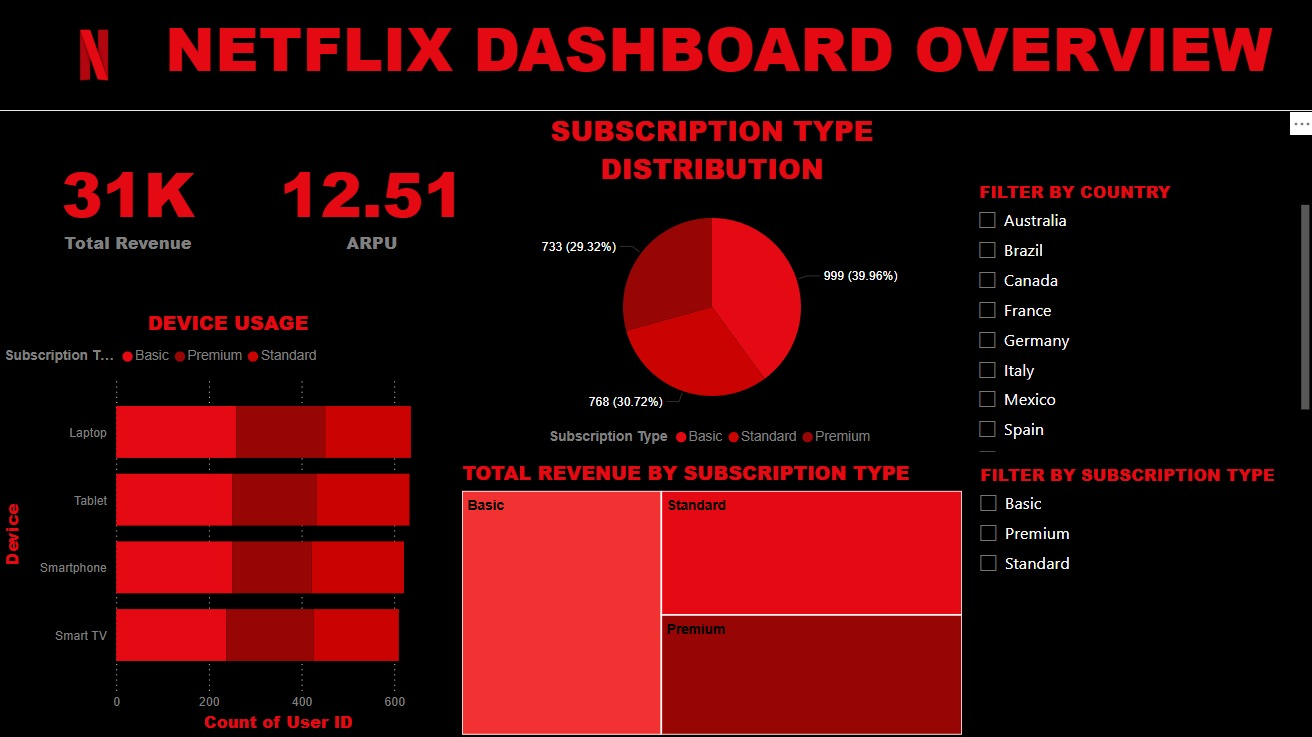

Layout of this report page (visuals, bound fields, positions):
{"tool":"powerbi","page":{"name":"OVERVIEW","canvas":[1280,720],"ordinal":0},"visuals":[{"type":"card","fields":{"Values":["Netflix Userbase.Total Revenue"]},"box":[6.8,108.9,237.3,191.6],"z":0},{"type":"textbox","box":[0,0,1280,108.9],"z":1000},{"type":"card","fields":{"Values":["Netflix Userbase.ARPU"]},"box":[244.1,108.9,237.3,191.6],"z":2000},{"type":"pieChart","title":"SUBSCRIPTION TYPE DISTRIBUTION","fields":{"Category":["Netflix Userbase.Subscription Type"],"Y":["CountNonNull(Netflix Userbase.User ID)"]},"box":[445.5,108.9,496,336.5],"z":3000},{"type":"barChart","title":"DEVICE USAGE","fields":{"Category":["Netflix Userbase.Device"],"Y":["CountNonNull(Netflix Userbase.User ID)"],"Series":["Netflix Userbase.Subscription Type"]},"box":[0,300.5,445.5,419.2],"z":4000},{"type":"slicer","fields":{"Values":["Netflix Userbase.Country"]},"box":[940.5,170.2,339.5,275.3],"z":5000},{"type":"slicer","fields":{"Values":["Netflix Userbase.Subscription Type"]},"box":[941.5,445.5,338.5,274.3],"z":6000},{"type":"image","box":[34,0,117.7,108.9],"z":7000},{"type":"treemap","title":"TOTAL REVENUE BY SUBSCRIPTION TYPE","fields":{"Group":["Netflix Userbase.Subscription Type"],"Values":["Netflix Userbase.Total Revenue"]},"box":[445,446,496,274],"z":7001}]}

Visuals, with their boxes in screenshot pixels (x1, y1, x2, y2), scaled from the page's 1280x720 canvas onto the 1312x737 screenshot:
card - Netflix Userbase.Total Revenue: [left=7, top=111, right=250, bottom=308]
textbox: [left=0, top=0, right=1311, bottom=111]
card - Netflix Userbase.ARPU: [left=250, top=111, right=493, bottom=308]
"SUBSCRIPTION TYPE DISTRIBUTION" pieChart: [left=457, top=111, right=965, bottom=456]
"DEVICE USAGE" barChart: [left=0, top=308, right=457, bottom=736]
slicer - Netflix Userbase.Country: [left=964, top=174, right=1311, bottom=456]
slicer - Netflix Userbase.Subscription Type: [left=965, top=456, right=1311, bottom=736]
image: [left=35, top=0, right=155, bottom=111]
"TOTAL REVENUE BY SUBSCRIPTION TYPE" treemap: [left=456, top=457, right=965, bottom=736]
